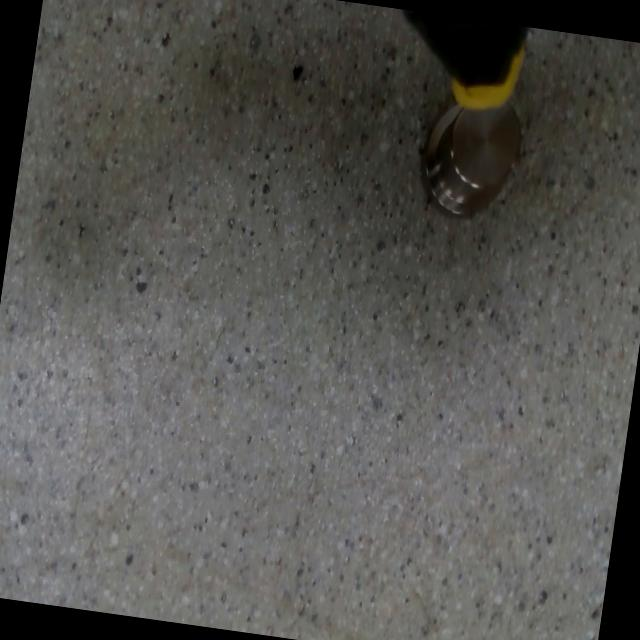sensor: (410, 90, 528, 226)
